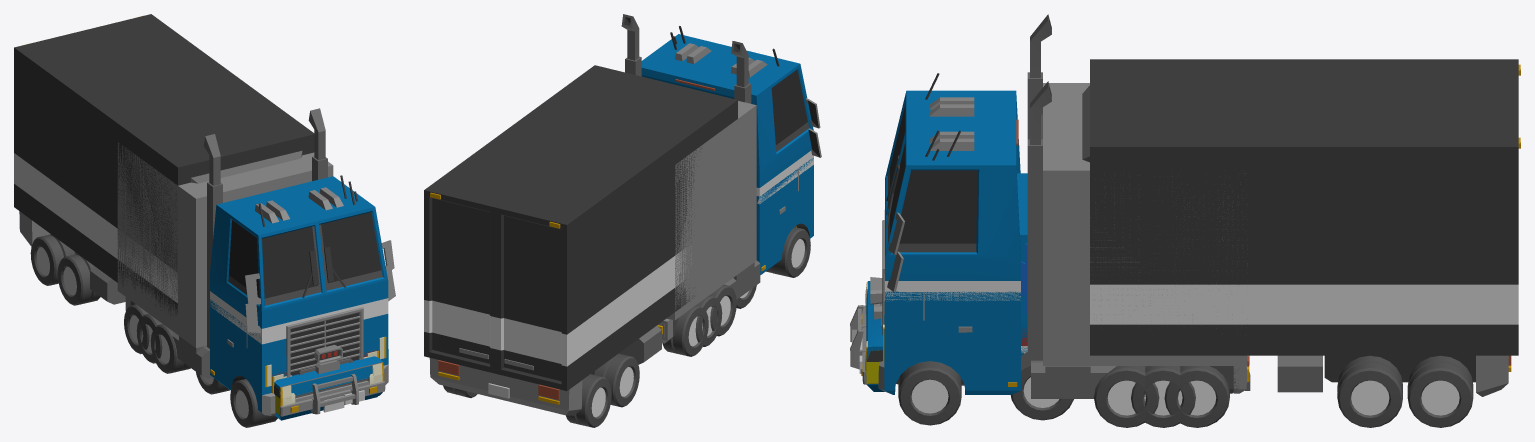
File: cars_materials_fix.fbx
The picture shows the model from 3 angles, left to right: view 1: azimuth 30°, elevation 25°; view 2: azimuth 150°, elevation 25°; view 3: azimuth 270°, elevation 25°; orthographic projection. The views are drawn at different scales.
Visible parts, largest first — view 1: scocca13, scocca12, scocca14, scocca1, scocca4, FR13, RR13, FR12, RR12, RR12B, scocca6, RR14 (+2 smaller); view 2: scocca13, scocca12, scocca14, FR13, RR13, RR12B, FR12, RR12, RR14; view 3: scocca13, scocca12, scocca14, RL13, FL13, FL12, RL12, RL12B, RL14, scocca1, RL5, scocca5 (+1 smaller).
Boxes of the visible parts, box(x1,y1,x2,y2) form: scocca13: box(14, 14, 314, 315); scocca12: box(125, 108, 394, 415); scocca14: box(117, 142, 395, 396); scocca1: box(274, 344, 385, 414); scocca4: box(280, 362, 384, 415); FR13: box(57, 254, 100, 305); RR13: box(30, 234, 75, 285); FR12: box(230, 379, 270, 427); RR12: box(150, 324, 190, 373); RR12B: box(124, 304, 149, 354); scocca6: box(310, 374, 358, 414); RR14: box(136, 314, 162, 363); scocca13: box(424, 65, 737, 415); scocca12: box(621, 14, 820, 343); scocca14: box(657, 36, 821, 340); FR13: box(593, 353, 639, 407); RR13: box(566, 374, 611, 427); RR12B: box(662, 305, 708, 356); FR12: box(770, 227, 810, 277); RR12: box(710, 284, 736, 336); RR14: box(695, 295, 722, 346); scocca13: box(1082, 59, 1520, 396); scocca12: box(878, 14, 1249, 394); scocca14: box(879, 83, 1250, 398); RL13: box(1407, 355, 1473, 427); FL13: box(1337, 355, 1402, 427); FL12: box(898, 361, 961, 425); RL12: box(1094, 366, 1159, 427); RL12B: box(1164, 366, 1229, 427); RL14: box(1131, 366, 1195, 427); scocca1: box(859, 277, 882, 382); RL5: box(1010, 365, 1073, 420); scocca5: box(881, 173, 1027, 355).
Size of the model in its own units: 1.55 by 2.55 by 4.64.
